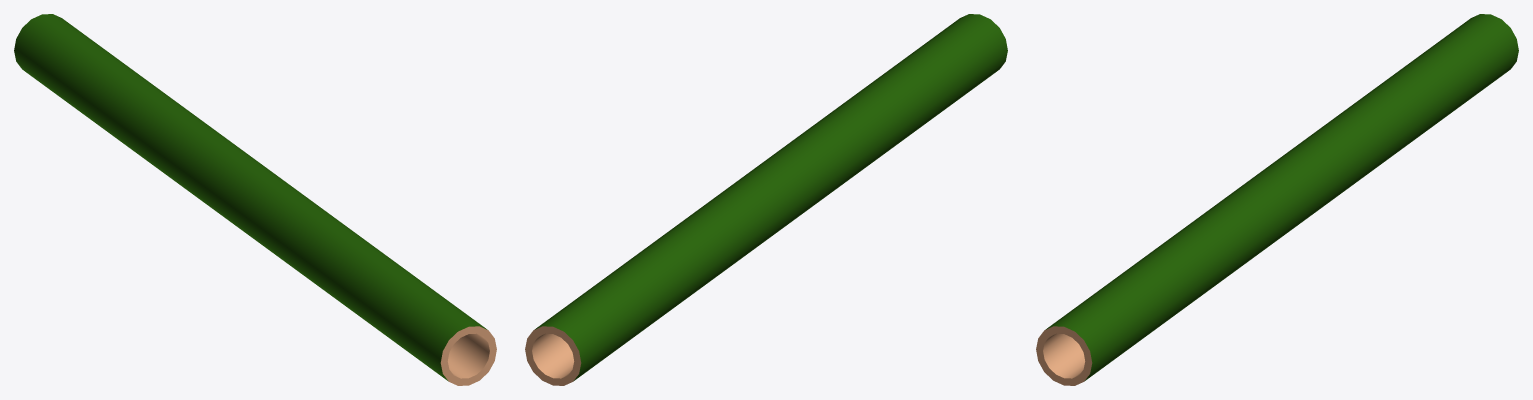
Rendered from Bamboo Gun Barrel.fbx.
The picture shows the model from 3 angles, left to right: view 1: azimuth 30°, elevation 25°; view 2: azimuth 150°, elevation 25°; view 3: azimuth 330°, elevation 25°; orthographic projection.
Parts seen in each view (by area): view 1: Bamboo Gun; view 2: Bamboo Gun; view 3: Bamboo Gun.
Part boxes in pixels (<box>): Bamboo Gun: <box>14,14,496,385</box>; Bamboo Gun: <box>525,14,1007,385</box>; Bamboo Gun: <box>1036,14,1518,385</box>.
Bounding box in the file's own units: 3.12 × 3.12 × 40.94.
